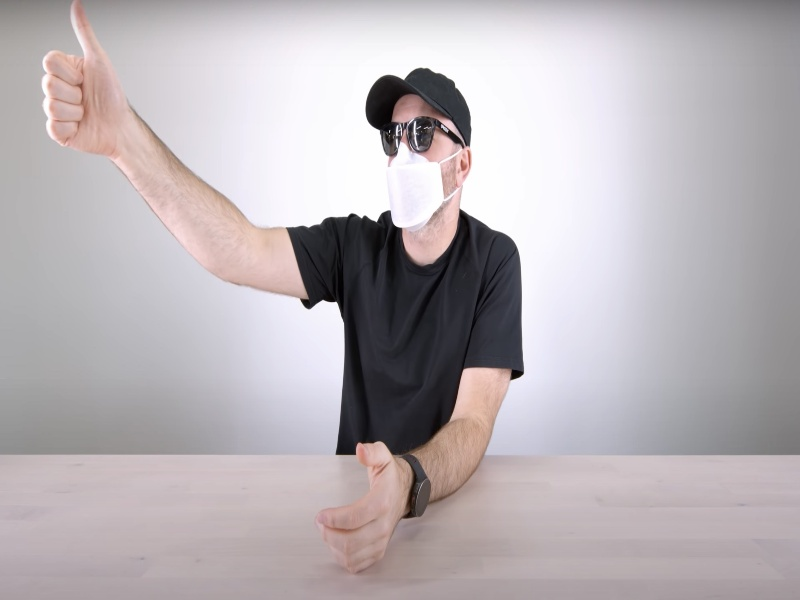mask: (377, 142, 452, 232)
